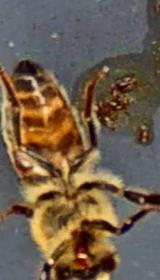varroa_mite: (7, 156, 35, 176)
